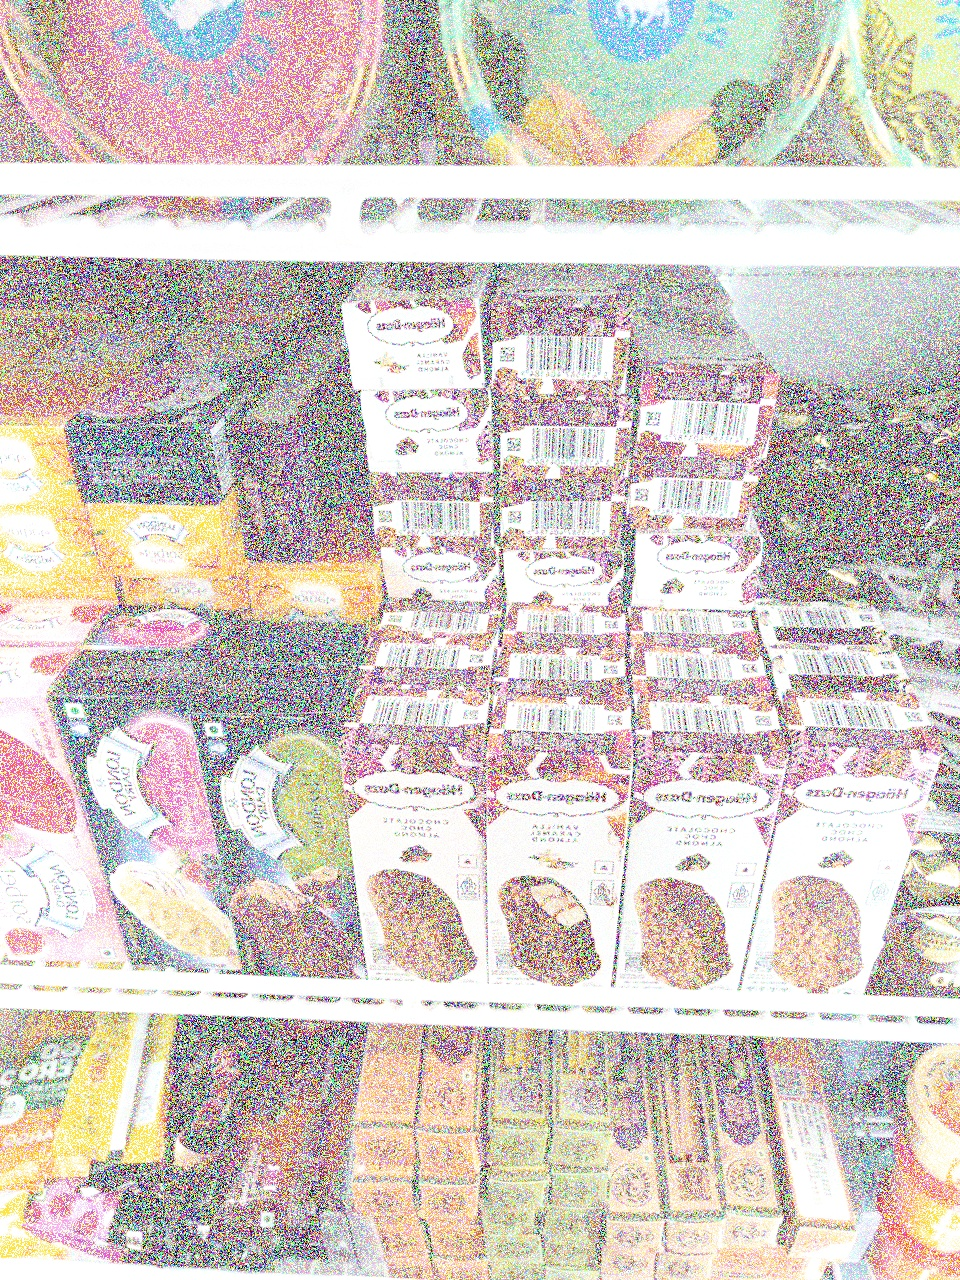Haagen-Dazs IceCream Bars: (757, 691, 938, 1016), (632, 692, 772, 1025), (485, 695, 640, 989), (352, 694, 488, 997), (625, 313, 779, 473), (348, 260, 488, 395), (492, 263, 626, 382), (495, 390, 640, 482), (349, 389, 499, 477), (627, 530, 760, 615), (497, 475, 628, 549), (377, 535, 512, 605), (363, 478, 505, 542), (629, 465, 758, 535), (627, 643, 781, 700), (505, 541, 634, 609), (772, 641, 916, 692), (496, 600, 637, 651), (627, 600, 766, 650), (354, 646, 497, 694), (493, 648, 638, 694), (758, 599, 882, 646), (364, 603, 510, 642)
